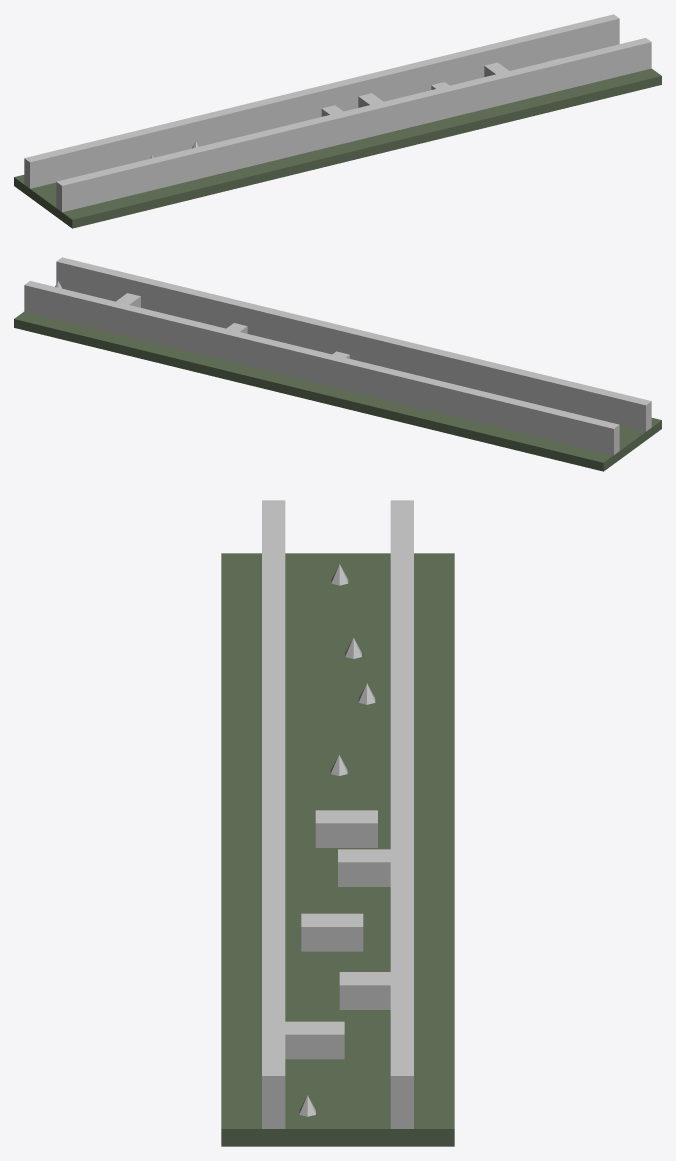
Rendered from r02-tropical-island__layout_main.obj.
3 views of the same model, one above another, from view 1: azimuth 30°, elevation 25°; view 2: azimuth 150°, elevation 25°; view 3: azimuth 270°, elevation 25° (orthographic). The views are drawn at different scales.
Visible parts, largest first — view 1: walls, floor, obstacles; view 2: walls, floor, obstacles; view 3: floor, walls, obstacles.
Part boxes in pixels (bbox=[...]): walls: bbox=[24, 14, 651, 212]; floor: bbox=[14, 68, 661, 228]; obstacles: bbox=[150, 58, 559, 158]; walls: bbox=[24, 257, 651, 455]; floor: bbox=[14, 311, 661, 471]; obstacles: bbox=[55, 281, 349, 358]; floor: bbox=[221, 553, 454, 1146]; walls: bbox=[262, 500, 413, 1128]; obstacles: bbox=[285, 564, 390, 1116].
Bounding box in the file's own units: 70 × 4 × 12.
